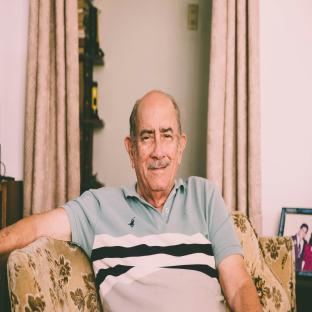Human: (0, 91, 262, 312)
